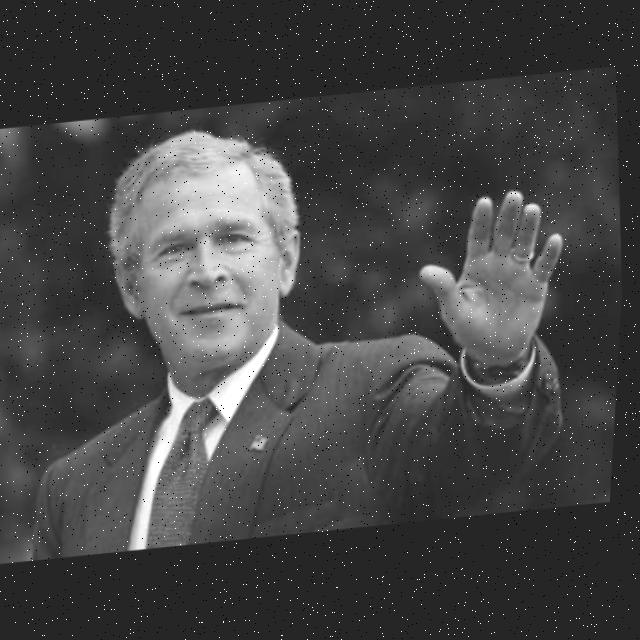face: (95, 116, 317, 376)
